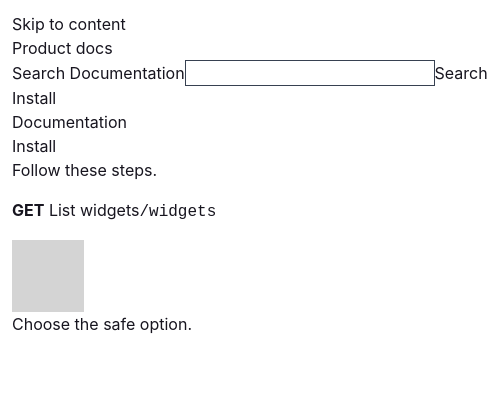
Test: PublicDocumentationReaderPage › renders the exact publication, metadata, navigation, and safe blocks
Expected: the heading "Install" is shown, [12,136,56,156]
Expected: the text "Follow these steps." is shown, [12,160,157,180]
Type "install" into the search field at [310, 73], box [185,60,435,86]
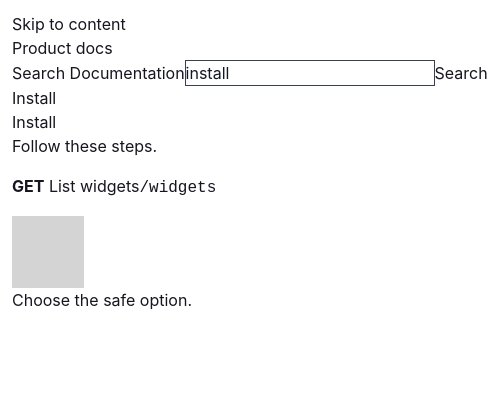
Submit the form, box [12,60,488,86]
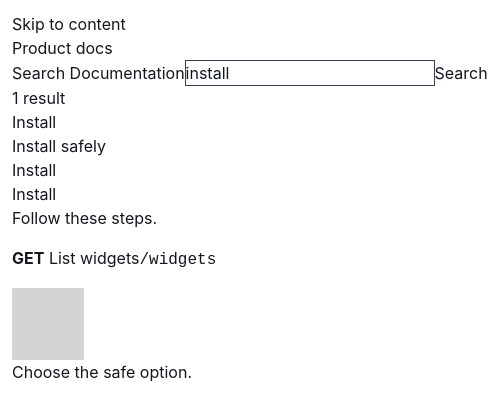
Expected: the text "1 result" is shown, [12,88,65,108]
